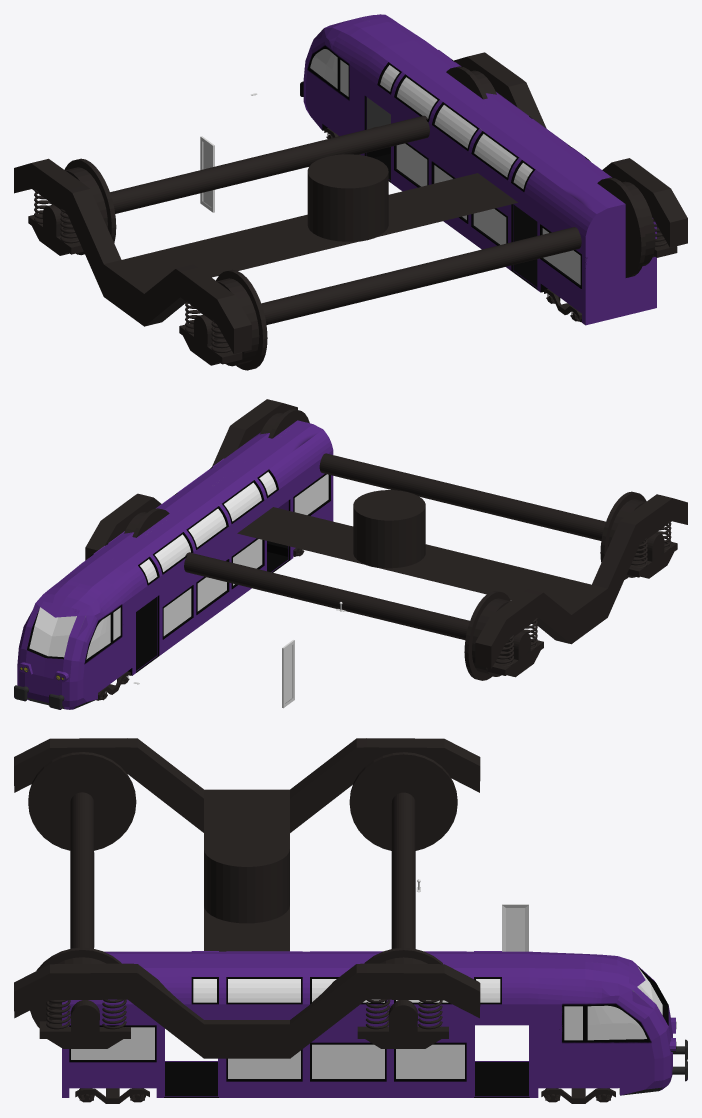
Rendered from trainv4.2.fbx.
The picture shows the model from 3 angles, top to bottom: view 1: azimuth 30°, elevation 25°; view 2: azimuth 150°, elevation 25°; view 3: azimuth 270°, elevation 25°; orthographic projection. The views are drawn at different scales.
Visible parts, largest first — view 1: base, vaz, kerekBack, kerekFront, Cylinder, rugoLeftBack3, rugoLeftFront3, door; view 2: base, vaz, kerekFront, kerekBack, Cylinder, rugoLeftFront3, rugoLeftBack3, door; view 3: base, vaz, kerekBack, kerekFront, Cylinder, rugoRightBack3, rugoRightFront3, door, forgoVazFront|vaz|Dupli|4, forgoVazBack|vaz|Dupli|4, rugoRightBack2.
Boxes of the visible parts, x1,y1,x2,y2 form: base: (300, 14, 656, 325); vaz: (14, 52, 687, 353); kerekBack: (216, 177, 655, 370); kerekFront: (51, 66, 496, 255); Cylinder: (307, 154, 388, 241); rugoLeftBack3: (179, 314, 242, 365); rugoLeftFront3: (28, 204, 83, 255); door: (200, 136, 214, 212); base: (14, 420, 333, 709); vaz: (85, 399, 687, 668); kerekFront: (124, 508, 510, 680); kerekBack: (260, 409, 646, 579); Cylinder: (353, 490, 425, 568); rugoLeftFront3: (487, 631, 543, 677); rugoLeftBack3: (627, 533, 677, 578); door: (282, 640, 294, 708); base: (62, 951, 687, 1097); vaz: (14, 738, 480, 1058); kerekBack: (28, 752, 136, 1027); kerekFront: (349, 752, 457, 964); Cylinder: (204, 830, 289, 923); rugoRightBack3: (39, 1000, 130, 1048); rugoRightFront3: (357, 1000, 448, 1048); door: (502, 904, 528, 951); forgoVazFront|vaz|Dupli|4: (541, 1088, 615, 1103); forgoVazBack|vaz|Dupli|4: (75, 1088, 149, 1103); rugoRightBack2: (46, 1000, 70, 1029).
Size of the model in its own units: 5104 by 1420 by 6158.
Materials: 4 (1 with a texture image).
